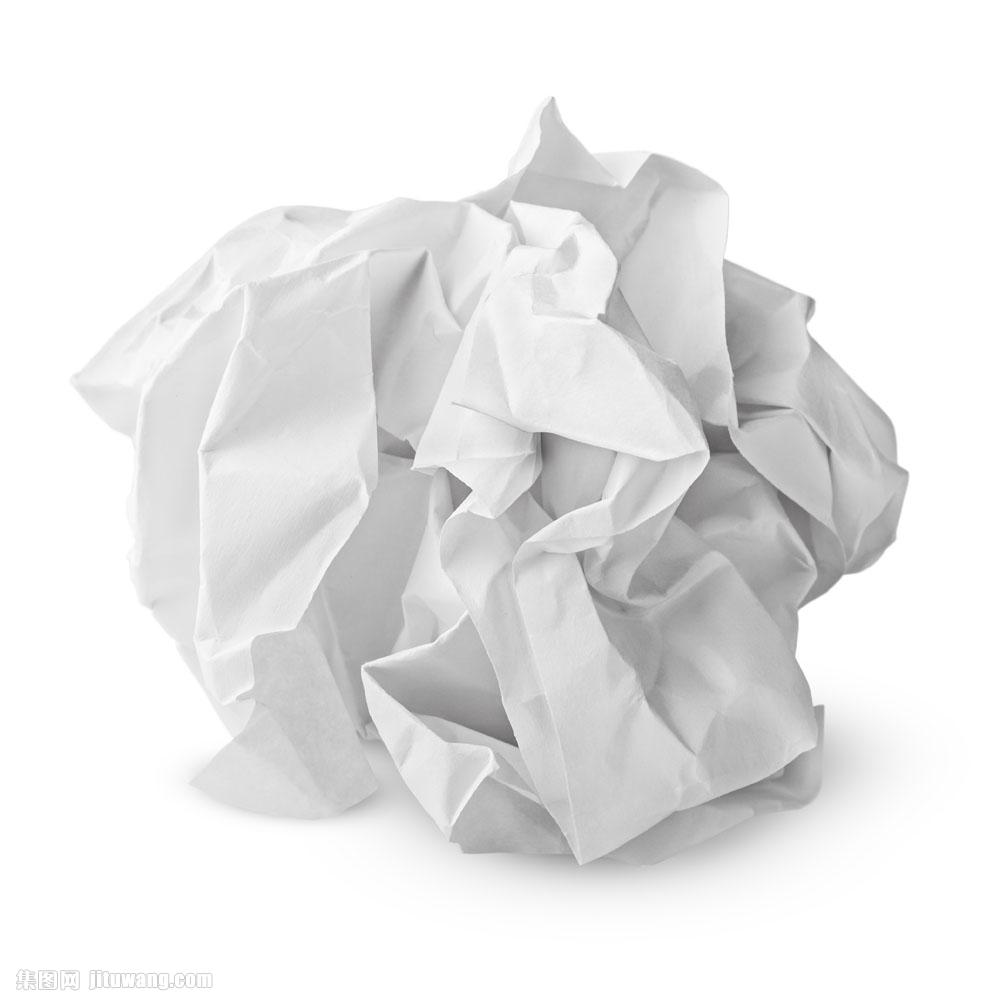flexible: (73, 87, 917, 875)
